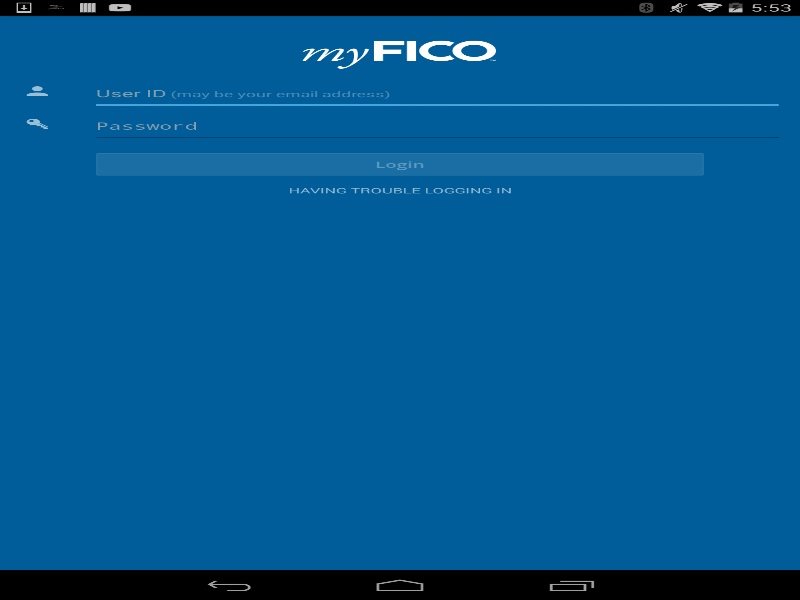Button: (96, 153, 704, 175)
Input: (90, 78, 784, 108), (90, 110, 784, 140)
